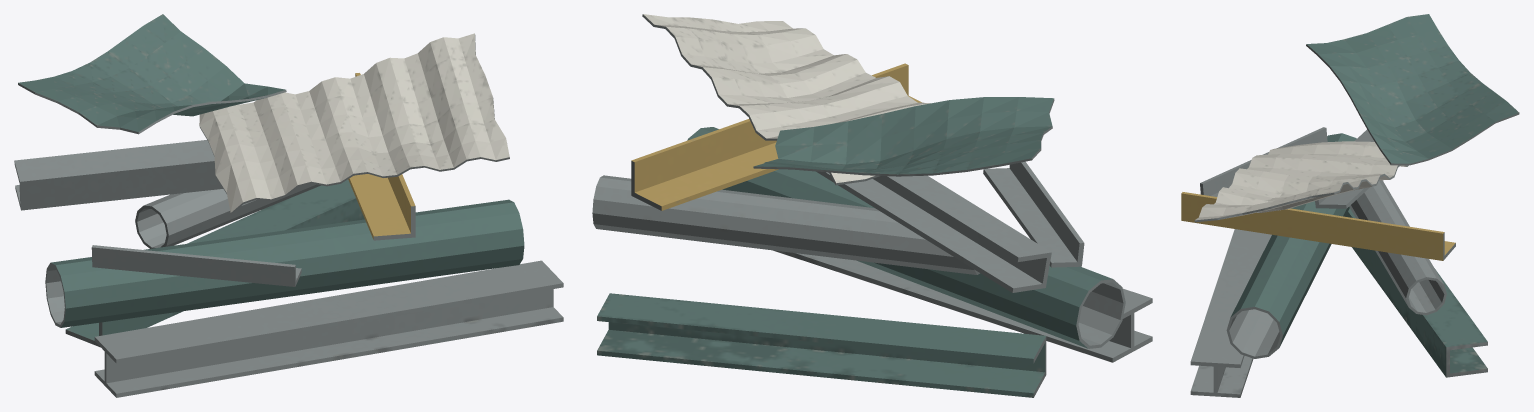
File: scrap_metal_pile_small.glb
3 renders of one model, left to right at view 1: azimuth 30°, elevation 25°; view 2: azimuth 150°, elevation 25°; view 3: azimuth 270°, elevation 25°, orthographic. The views are drawn at different scales.
Visible parts, largest first — view 1: ScrapPileSmall; view 2: ScrapPileSmall; view 3: ScrapPileSmall.
Part boxes in pixels (<box>): ScrapPileSmall: <box>14,14,563,397</box>; ScrapPileSmall: <box>592,14,1152,397</box>; ScrapPileSmall: <box>1181,14,1519,397</box>.
Size of what is drawn, in the model's own units: 1.3 by 0.6816 by 1.01.
Materials: 1 (1 with a texture image).
